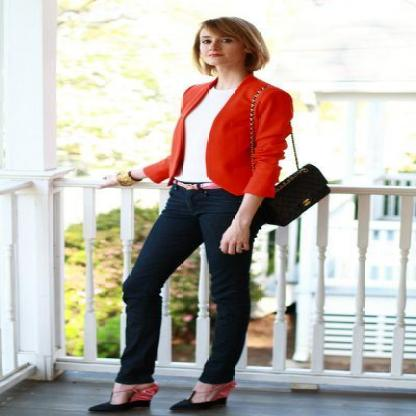bag: (248, 133, 330, 246)
jacket: (144, 75, 292, 207)
pants: (115, 179, 258, 384)
shirt: (175, 87, 234, 188)
shoe: (88, 391, 226, 415)
